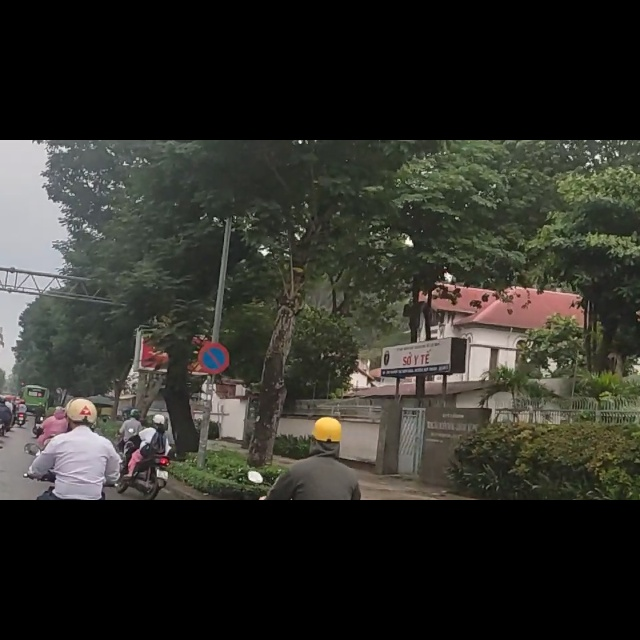bien_cam: (198, 359, 229, 416)
